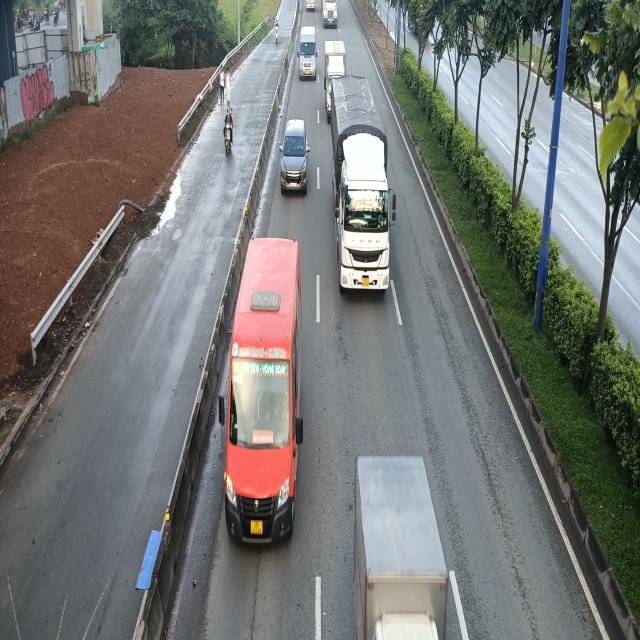car: (280, 118, 310, 196)
container: (321, 0, 338, 29)
truck: (350, 452, 468, 636), (329, 78, 396, 298), (326, 40, 349, 119)
van: (219, 240, 309, 547), (298, 25, 318, 81)
